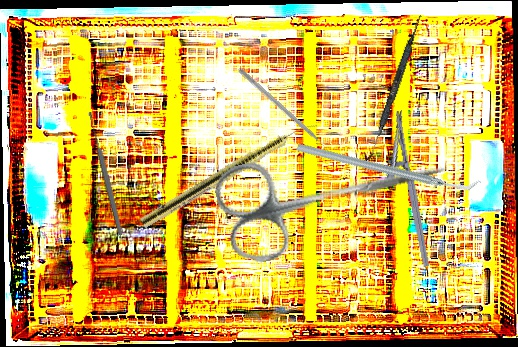Chopper: (294, 80, 482, 252), (233, 67, 332, 158)
Handpiece: (139, 114, 320, 231)
Iris Scissors: (210, 116, 458, 270)
Needle Holder: (374, 110, 430, 271)
Spatula Surgical: (366, 13, 423, 164)
Surgical Spoon: (86, 111, 125, 236)
